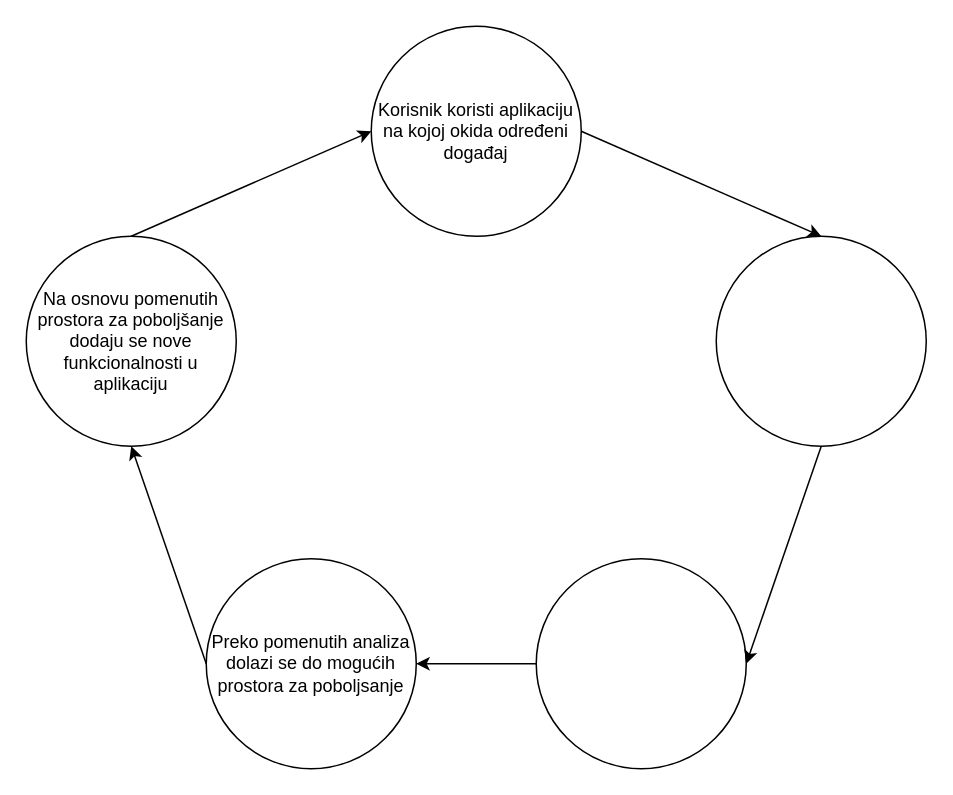
Some shapes in this 953 by 795 pixel diagram are drawn without their labels. The centre of each missing label's shape, as x and y in pixels:
"Analitičari podataka rade analizu koristeći određene tehnike i alate" belongs at point 640,663.
"Događaj se pamti u bazi podataka" belongs at point 820,340.
